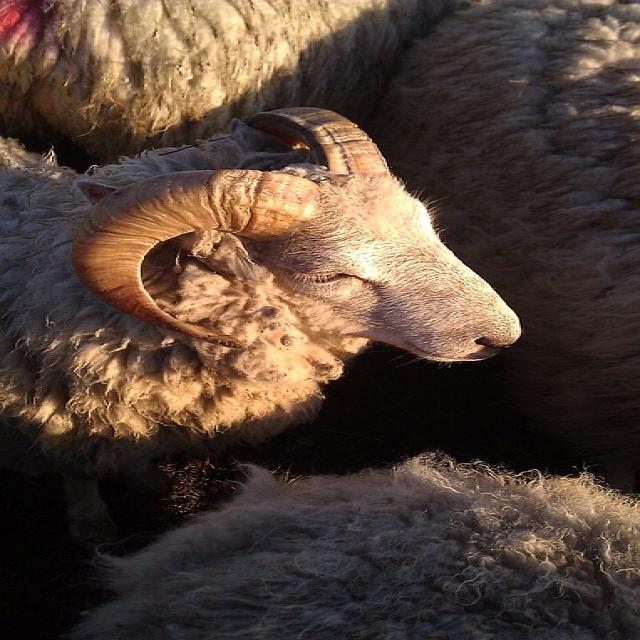goat: (4, 124, 519, 532), (371, 0, 639, 487), (71, 455, 637, 640), (2, 0, 454, 162)
